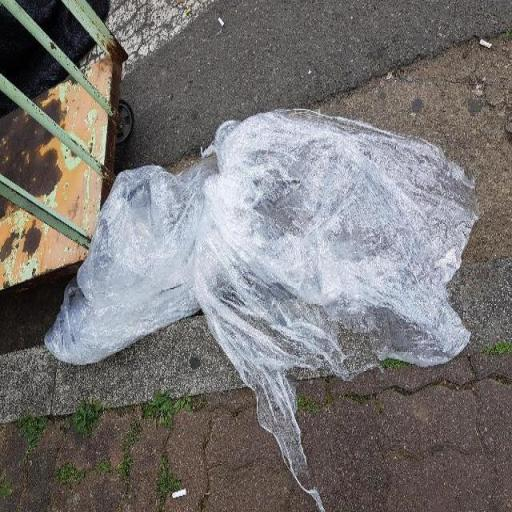plastic-bag: (42, 104, 482, 460)
